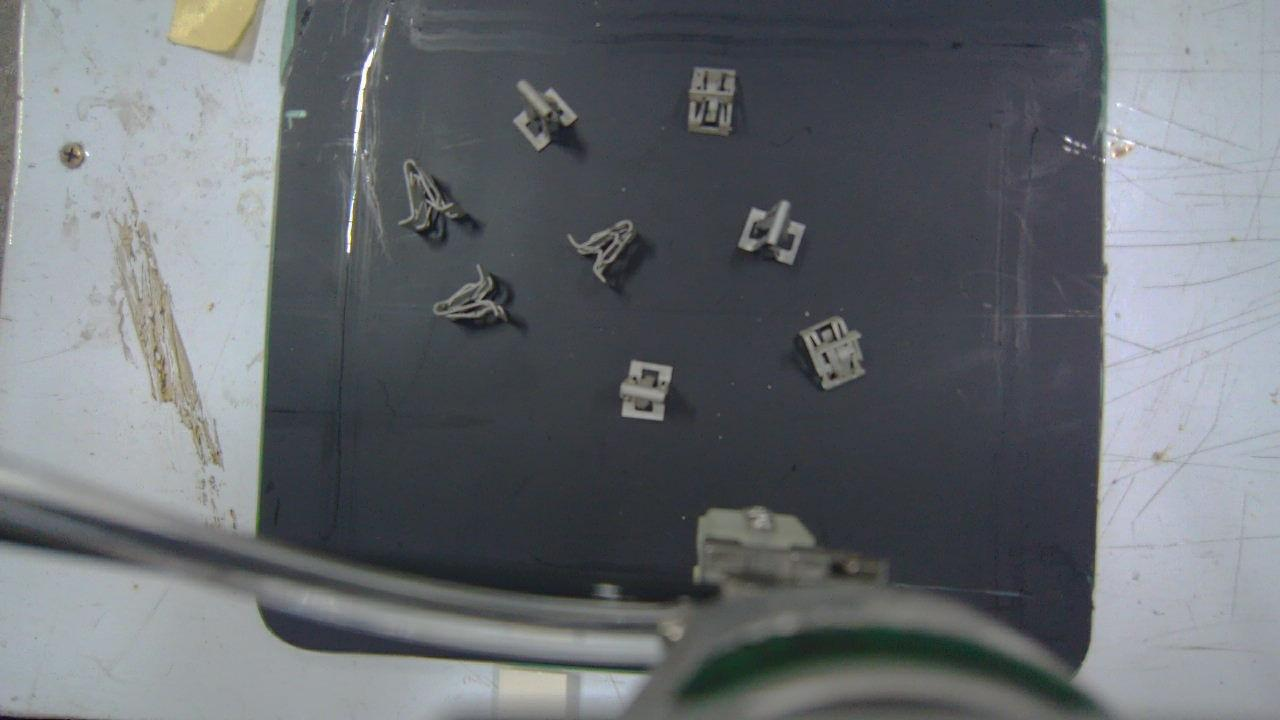ng: (396, 158, 467, 233), (801, 315, 864, 389), (569, 219, 633, 286), (434, 265, 511, 320), (688, 65, 736, 132)
pass: (511, 80, 580, 150), (740, 200, 807, 264), (620, 359, 672, 420)
